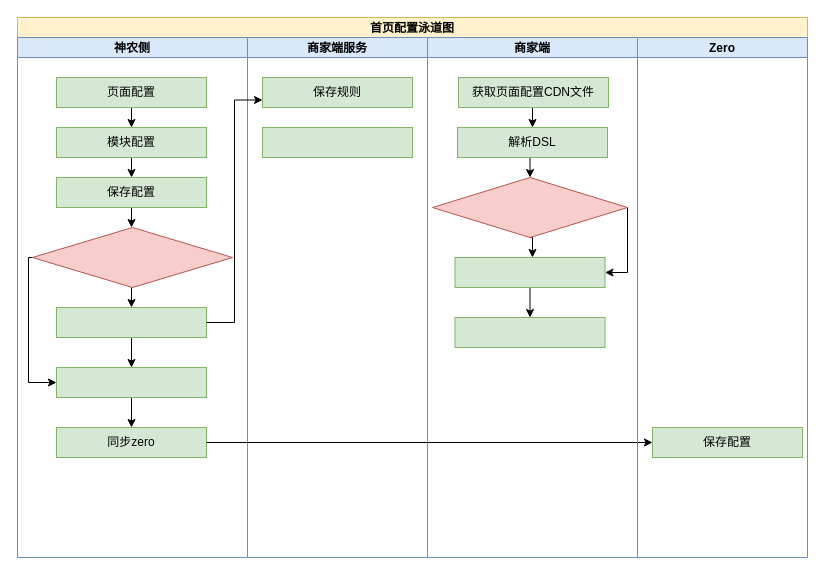
Image size: 825x575. Some labels were removed from this diagram. Each missing label, with the centre of its shape:
保存后端配置: point (131, 322)
发布到CDN: point (131, 382)
有后端配置模块: point (530, 207)
有后端配置模块？【注1】: point (132, 257)
渲染页面: point (529, 332)
获取规则: point (337, 142)
获取配置 【注2】: point (529, 272)
